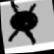not correct: (0, 0, 44, 49)
